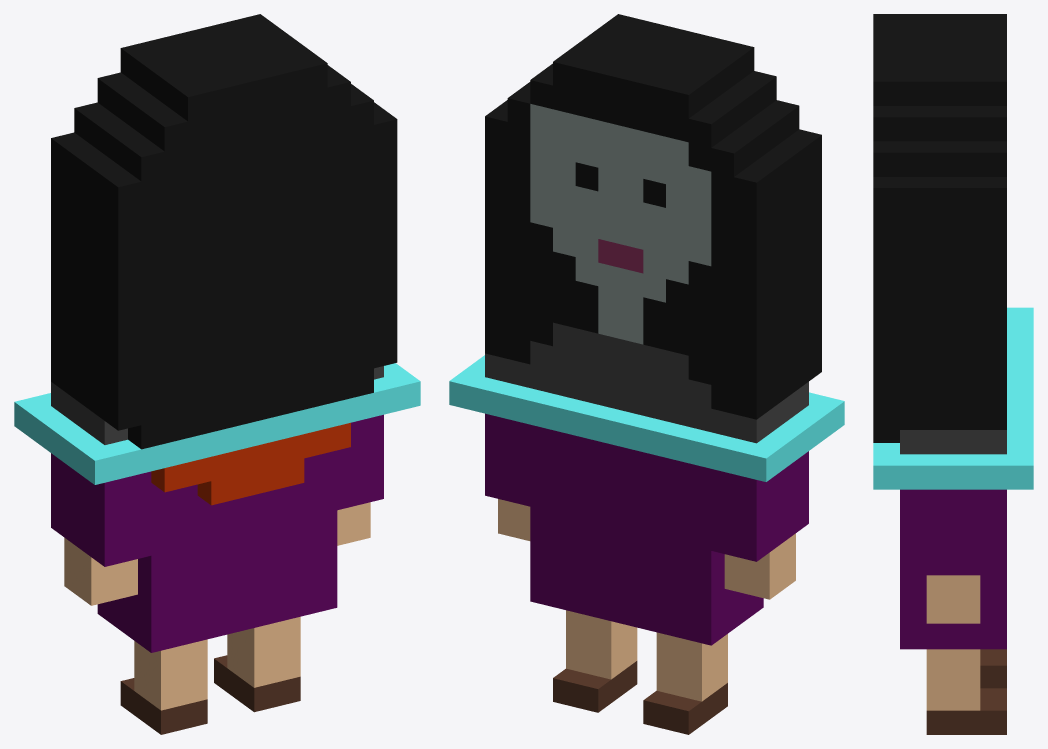
File: grup7_characterChangedGhost_01.fbx
The picture shows the model from 3 angles, left to right: view 1: azimuth 30°, elevation 25°; view 2: azimuth 150°, elevation 25°; view 3: azimuth 270°, elevation 25°; orthographic projection. The views are drawn at different scales.
Visible parts, largest first — view 1: characterChangedGhost_01; view 2: characterChangedGhost_01; view 3: characterChangedGhost_01.
Part boxes in pixels (left/top/right/bottom): characterChangedGhost_01: left=14, top=14, right=420, bottom=734; characterChangedGhost_01: left=449, top=14, right=844, bottom=734; characterChangedGhost_01: left=873, top=14, right=1033, bottom=734.
Bounding box in the file's own units: 140 × 270 × 60.
Materials: 1 (1 with a texture image).
